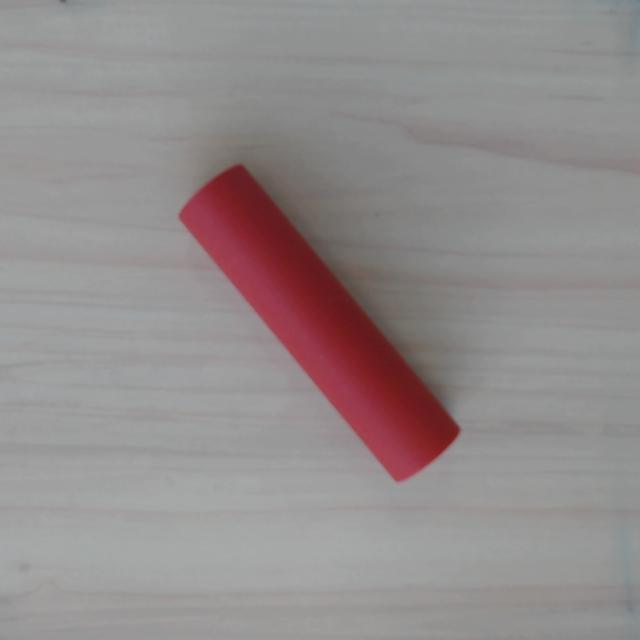Silinder-Merah-10025: (173, 159, 465, 487)
